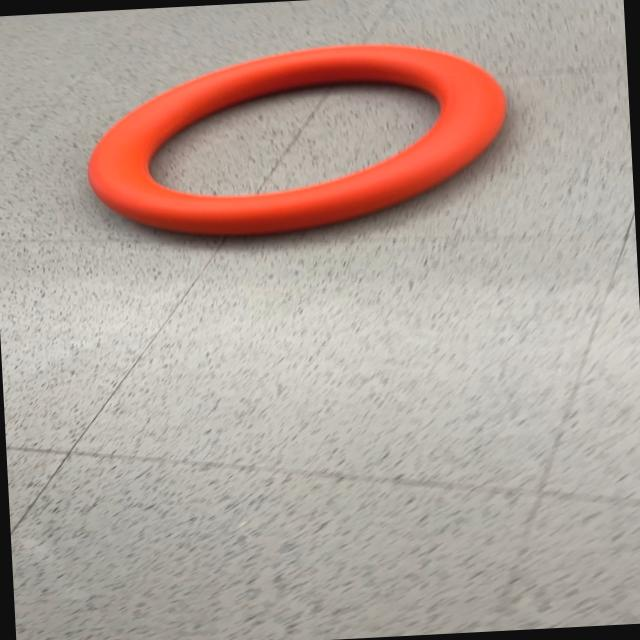note: (79, 34, 515, 246)
